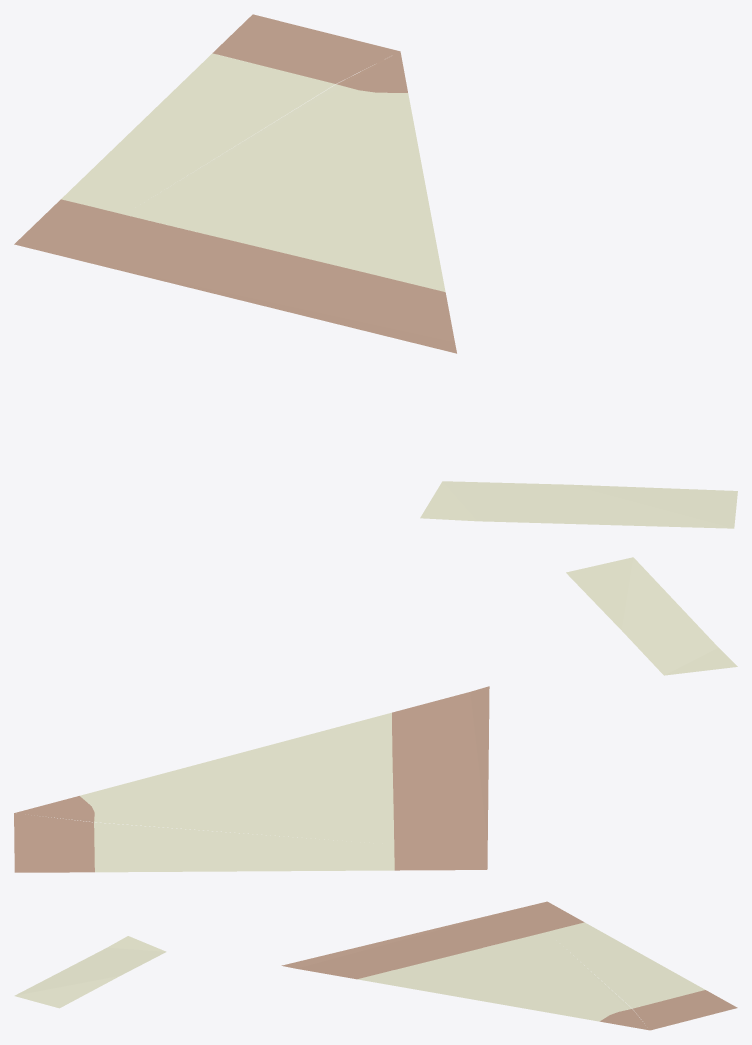
Rendered from data64.glb.
The picture shows the model from 3 angles, top to bottom: view 1: azimuth 30°, elevation 25°; view 2: azimuth 150°, elevation 25°; view 3: azimuth 270°, elevation 25°; orthographic projection. The views are drawn at different scales.
Bounding box in the file's own units: 20.05 × 1.9 × 44.52.
